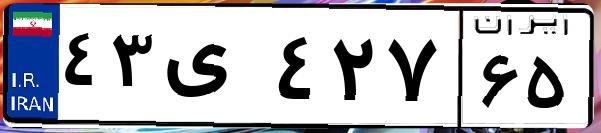2: (330, 28, 385, 110)
3: (110, 28, 158, 98)
4: (270, 28, 330, 110), (57, 26, 110, 100)
5: (525, 38, 570, 115)
6: (475, 38, 525, 113)
7: (385, 28, 445, 110)
ی: (158, 20, 270, 120)
